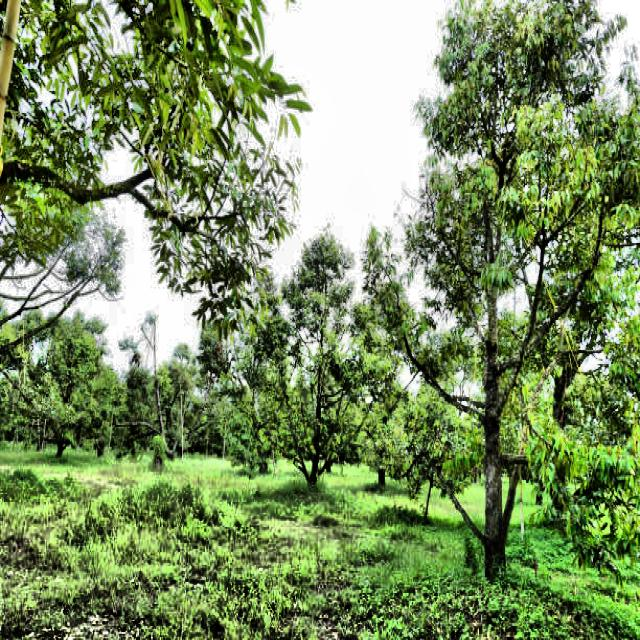arvore: (470, 294, 523, 601)
